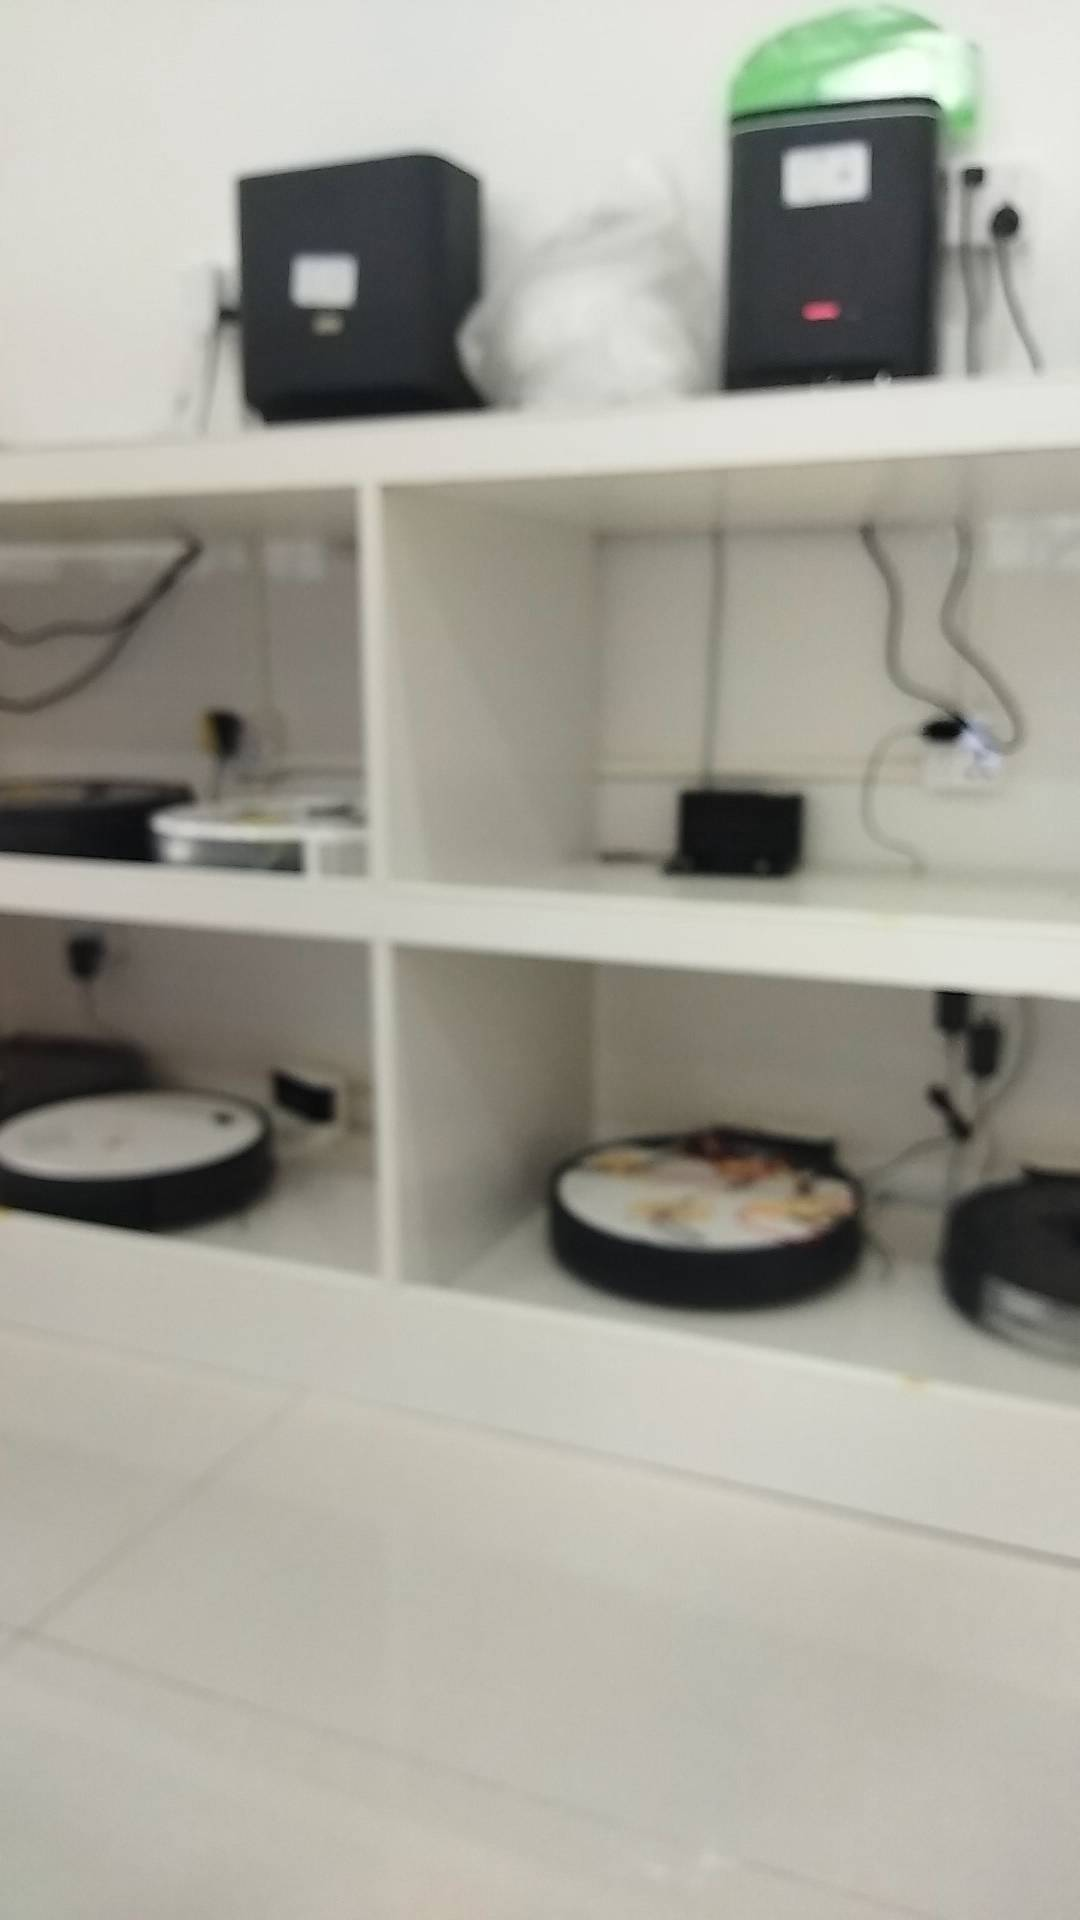dust collecting barrel: (233, 142, 485, 426), (723, 94, 948, 386)
recharge seat: (663, 787, 814, 882), (235, 1063, 357, 1160)
